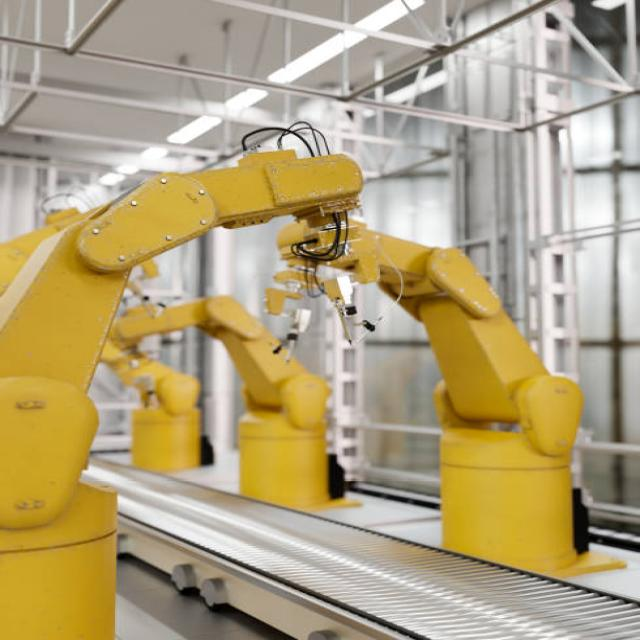Robotic-arm: (0, 135, 361, 640), (296, 205, 612, 582), (107, 277, 350, 507)
